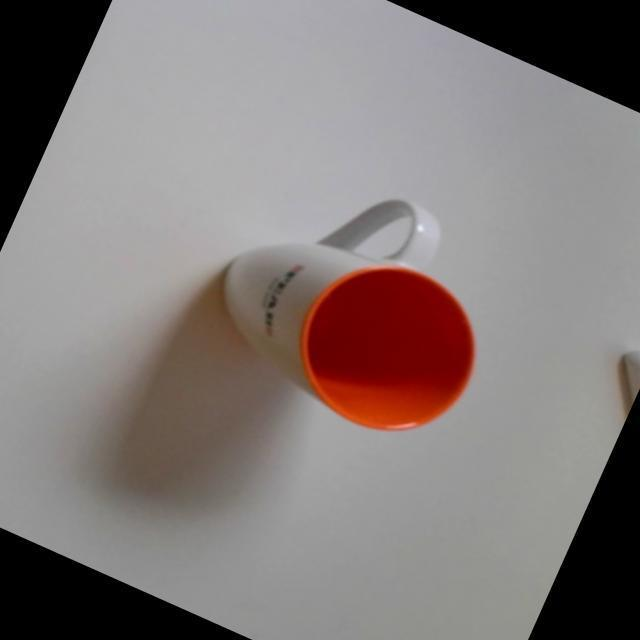cup: (182, 138, 534, 469)
